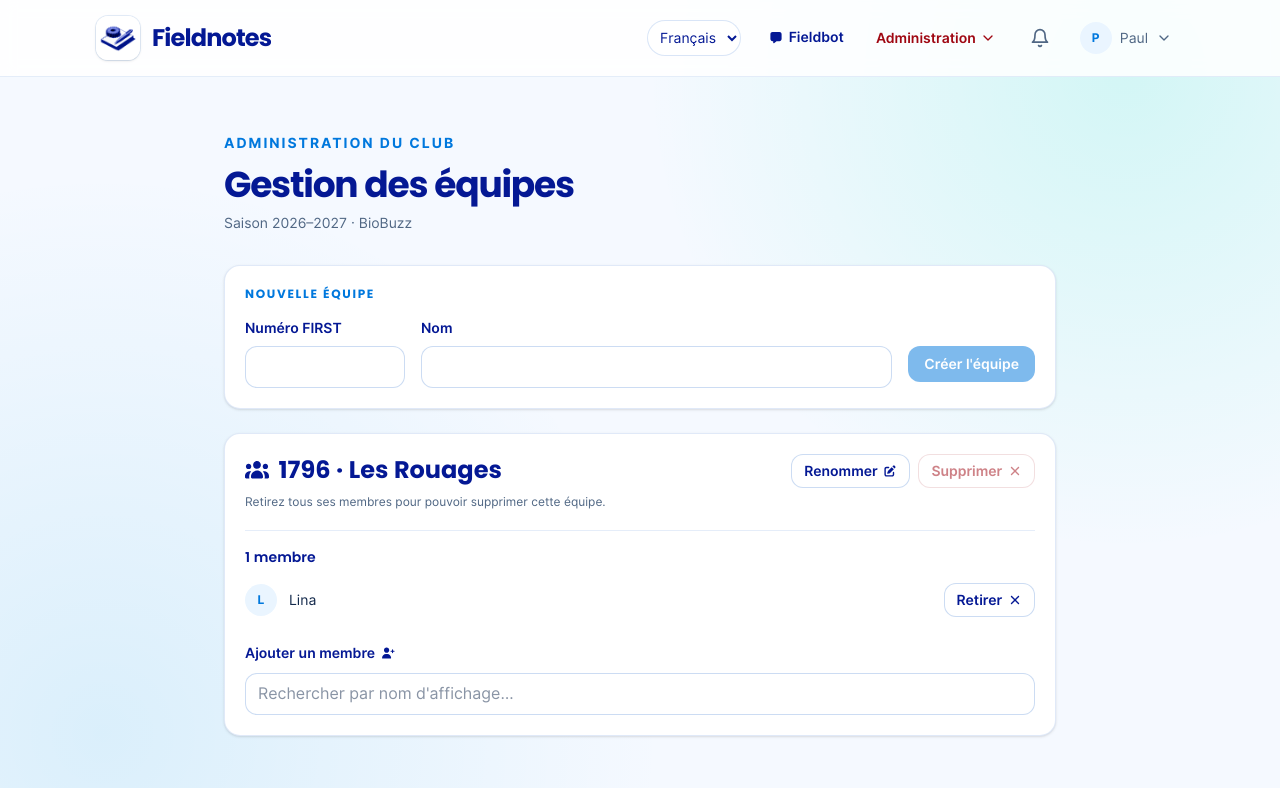
Test: renames a team and removes a member
Click the button "Renommer": (851, 471) 791,454 -> 910,488
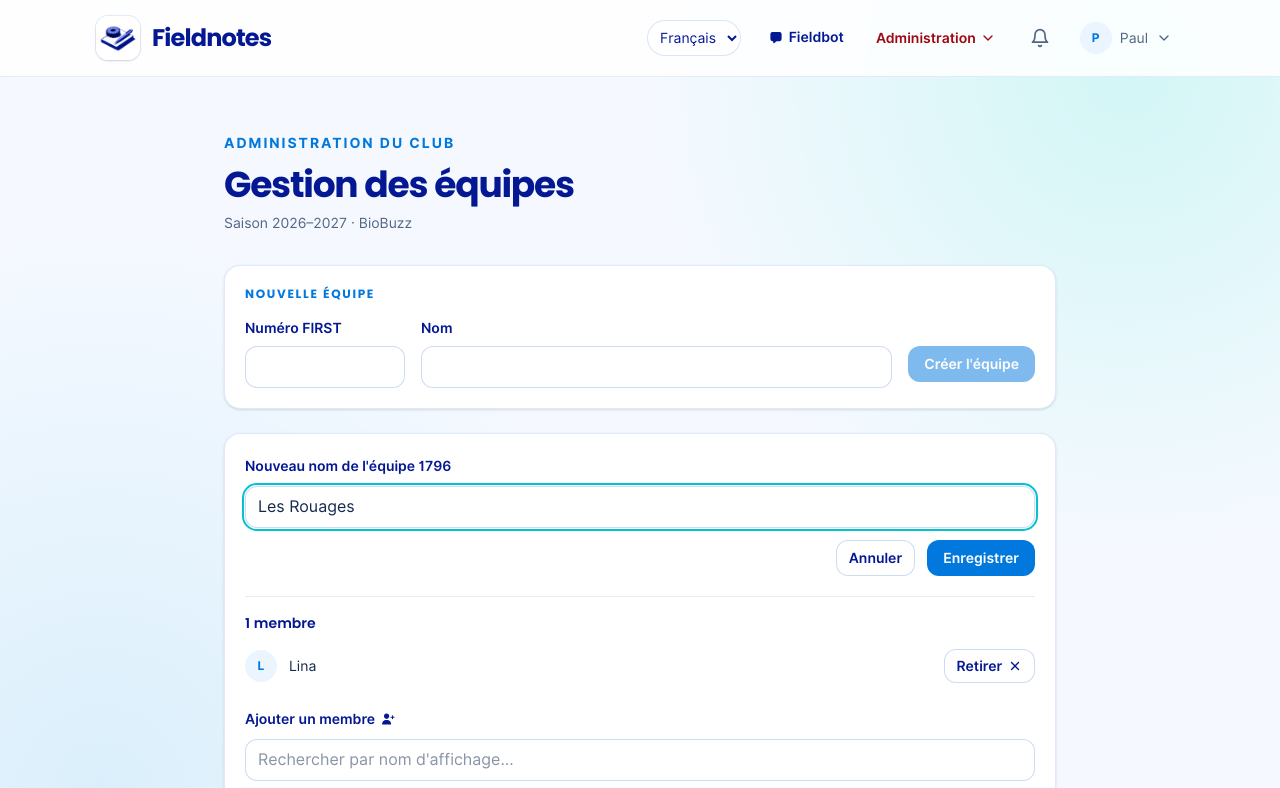
Replace the text in the field labelled "Nouveau nom de l'équipe 1796" with "Les Engrenages": (640, 507) 245,486 -> 1035,528
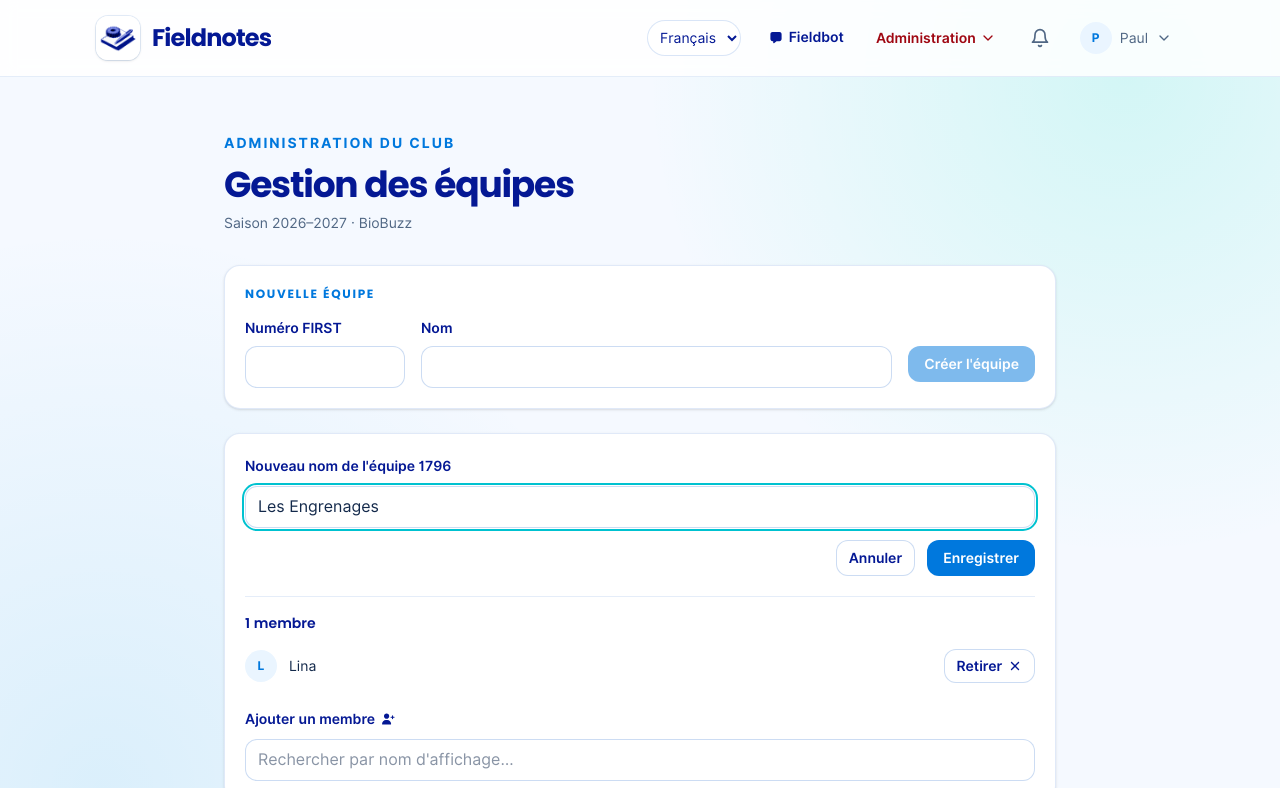
Click the button "Enregistrer": (981, 558) 927,540 -> 1035,576
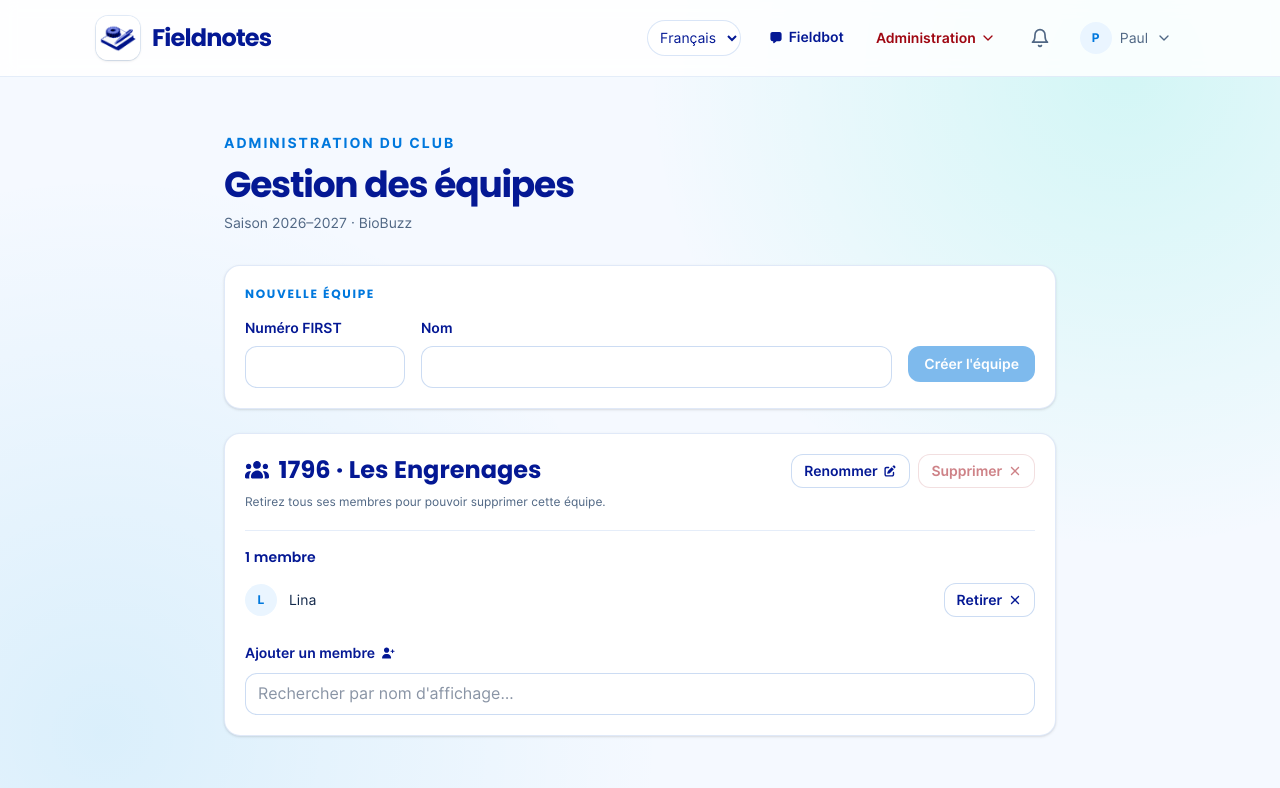
Check: the heading "1796 · Les Engrenages" is shown, box 245,454 -> 541,490
Click the button with aria-label "Retirer Lina de l'équipe 1796 · Les Engrenages": (989, 600) 944,583 -> 1035,617
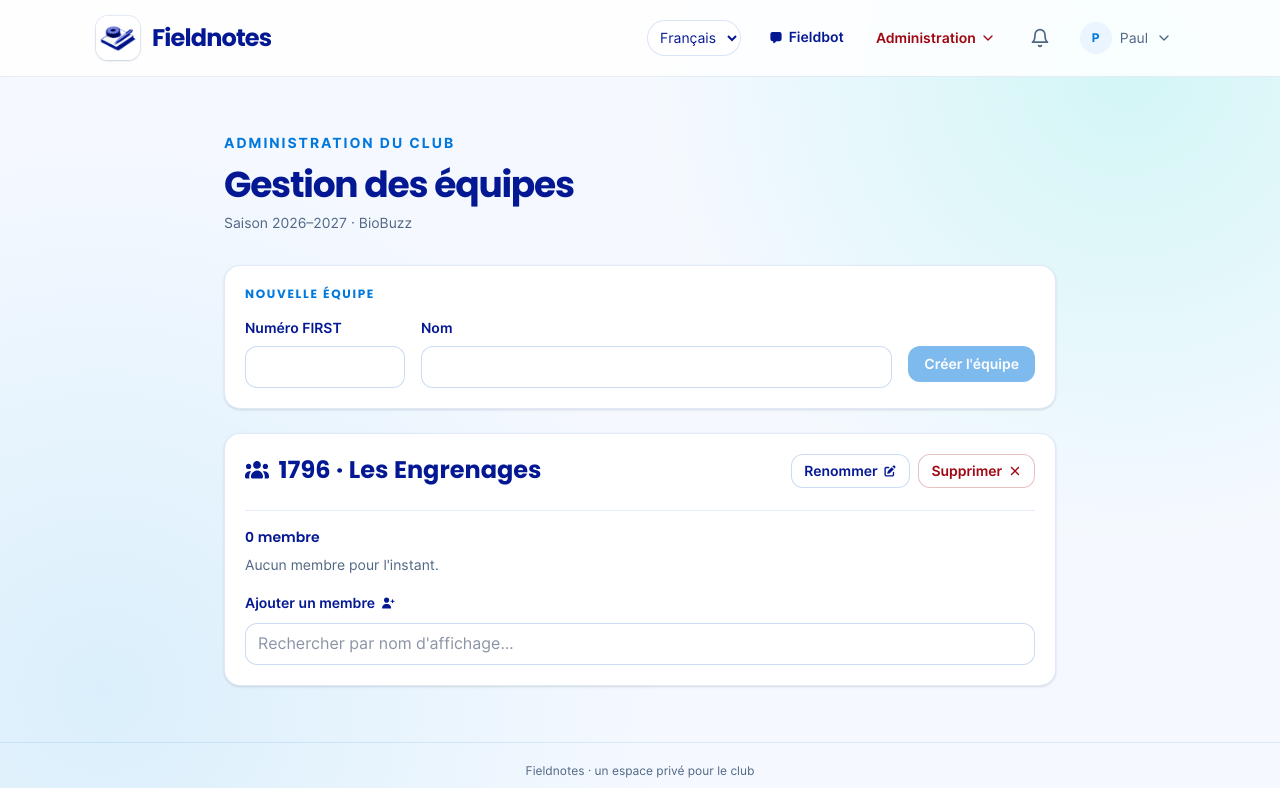
Check: the text "Aucun membre pour l'instant." is shown, box 245,557 -> 439,573
